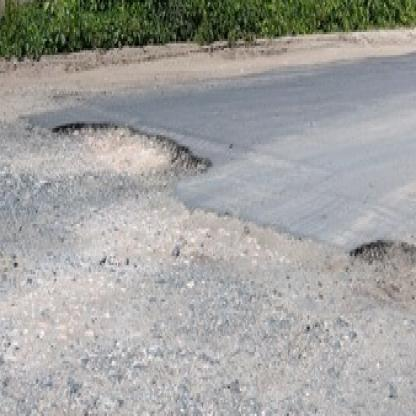pothole: (49, 121, 212, 185), (351, 238, 416, 315)
